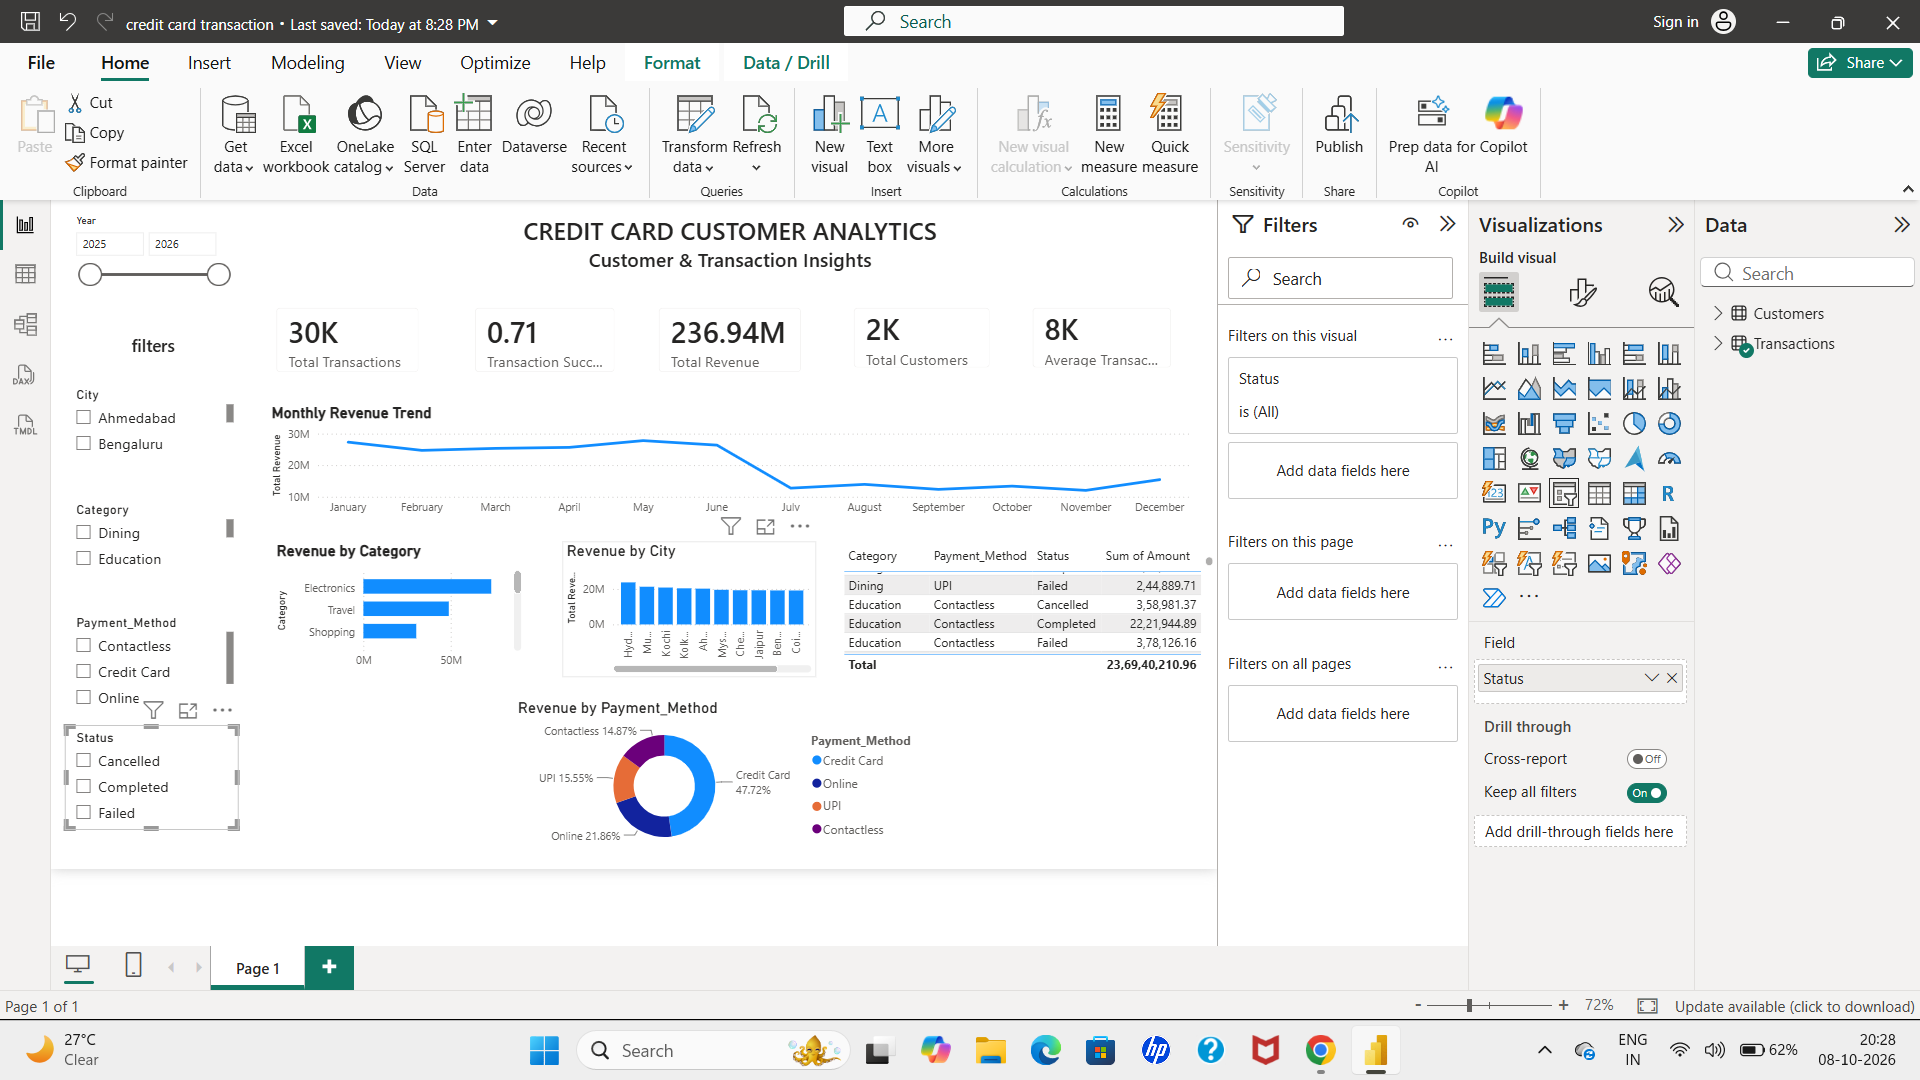

What the dashboard file says about the page in this screenshot:
{"tool":"powerbi","page":{"name":"Page 1","canvas":[1287,738],"ordinal":0},"visuals":[{"type":"cardVisual","fields":{"Data":["Customers.Total Transactions"]},"box":[231.4,101.4,191.4,105.7],"z":0},{"type":"cardVisual","fields":{"Data":["Customers.Total Revenue"]},"box":[654.3,101.4,191.4,105.7],"z":1000},{"type":"cardVisual","fields":{"Data":["Customers.Total Customers"]},"box":[868.6,101.4,184.3,100],"z":2000},{"type":"cardVisual","fields":{"Data":["Customers.Average Transaction"]},"box":[1067.1,101.4,187.1,100],"z":3000},{"type":"cardVisual","fields":{"Data":["Customers.Transaction Success Rate"]},"box":[451.4,101.4,188.6,105.7],"z":4000},{"type":"textbox","box":[231.4,11.4,1035.7,84.3],"z":5000},{"type":"lineChart","title":"Monthly Revenue Trend","fields":{"Category":["Transactions.Transaction_Date.Variation.Date Hierarchy.Month"],"Y":["Customers.Total Revenue"]},"box":[238.6,224.3,1022.9,132.9],"z":6000},{"type":"clusteredBarChart","title":"Revenue by Category","fields":{"Category":["Transactions.Category"],"Y":["Customers.Total Revenue"]},"box":[244.3,377.1,280,150],"z":7000},{"type":"clusteredColumnChart","title":" Revenue by City","fields":{"Category":["Transactions.City"],"Y":["Customers.Total Revenue"]},"box":[564.3,377.1,280,150],"z":8000},{"type":"donutChart","title":"Revenue by Payment_Method","fields":{"Category":["Transactions.Payment_Method"],"Y":["Customers.Total Revenue"]},"box":[510.5,550.5,459.4,173.8],"z":9000},{"type":"textbox","box":[15.7,142.9,191.4,572.9],"z":10000},{"type":"slicer","fields":{"Values":["Customers.City"]},"box":[15.7,201.4,191.4,88.6],"z":11000},{"type":"slicer","fields":{"Values":["Transactions.Category"]},"box":[15.7,328.6,191.4,81.4],"z":12000},{"type":"slicer","fields":{"Values":["Transactions.Status"]},"box":[15.7,580,191.4,115.7],"z":13000},{"type":"slicer","fields":{"Values":["Transactions.Payment_Method"]},"box":[15.7,452.9,191.4,111.4],"z":14000},{"type":"tableEx","fields":{"Values":["Transactions.Category","Transactions.Payment_Method","Transactions.Status","Sum(Transactions.Amount)"]},"box":[868.6,377.1,418.6,150],"z":15000},{"type":"slicer","fields":{"Values":["Transactions.Transaction_Date.Variation.Date Hierarchy.Year"]},"box":[15.7,11.4,191.4,108.6],"z":16000}]}

Visuals, with their boxes on the page's 1287x738 design canvas (x1, y1, x2, y2). These are canvas units, not pixel positions in the 1920x1080 screenshot, which may show the page scaled, cropped or inside an application window:
cardVisual - Customers.Total Transactions: BBox(231, 101, 423, 207)
cardVisual - Customers.Total Revenue: BBox(654, 101, 846, 207)
cardVisual - Customers.Total Customers: BBox(869, 101, 1053, 201)
cardVisual - Customers.Average Transaction: BBox(1067, 101, 1254, 201)
cardVisual - Customers.Transaction Success Rate: BBox(451, 101, 640, 207)
textbox: BBox(231, 11, 1267, 96)
"Monthly Revenue Trend" lineChart: BBox(239, 224, 1262, 357)
"Revenue by Category" clusteredBarChart: BBox(244, 377, 524, 527)
" Revenue by City" clusteredColumnChart: BBox(564, 377, 844, 527)
"Revenue by Payment_Method" donutChart: BBox(510, 550, 970, 724)
textbox: BBox(16, 143, 207, 716)
slicer - Customers.City: BBox(16, 201, 207, 290)
slicer - Transactions.Category: BBox(16, 329, 207, 410)
slicer - Transactions.Status: BBox(16, 580, 207, 696)
slicer - Transactions.Payment_Method: BBox(16, 453, 207, 564)
tableEx - Transactions.Category x Transactions.Payment_Method: BBox(869, 377, 1287, 527)
slicer - Transactions.Transaction_Date.Variation.Date Hierarchy.Year: BBox(16, 11, 207, 120)
